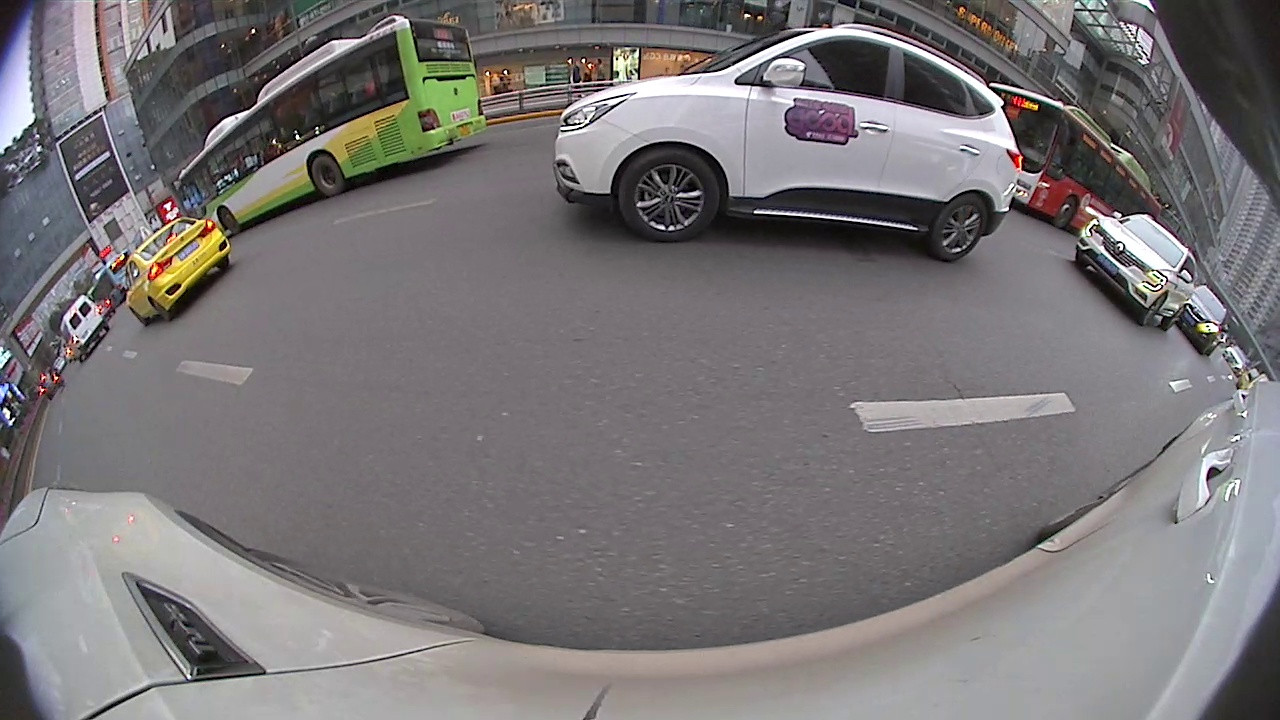bus: (198, 20, 488, 241), (981, 79, 1164, 249)
car: (547, 22, 1023, 266), (1072, 218, 1201, 333), (121, 213, 237, 330), (1168, 287, 1234, 357), (59, 292, 106, 361)
front: (620, 147, 721, 245), (1141, 292, 1168, 329), (1054, 196, 1076, 228), (218, 208, 240, 235)
rear: (929, 191, 988, 267), (307, 154, 346, 197)
